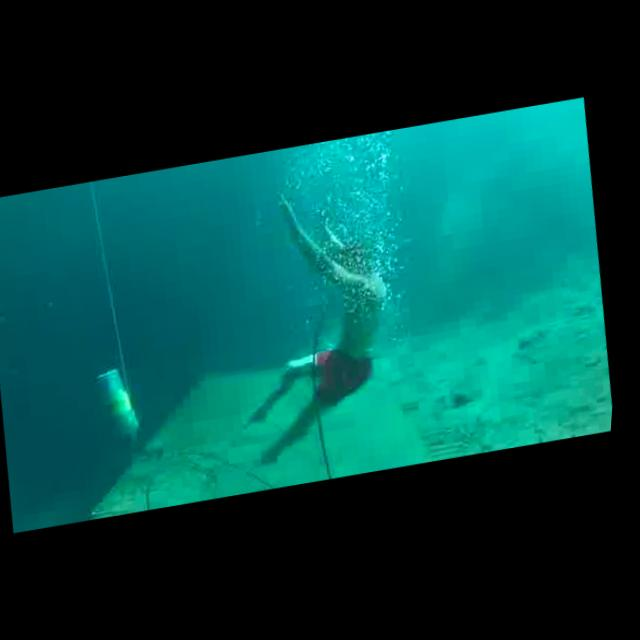human: (199, 164, 436, 479)
